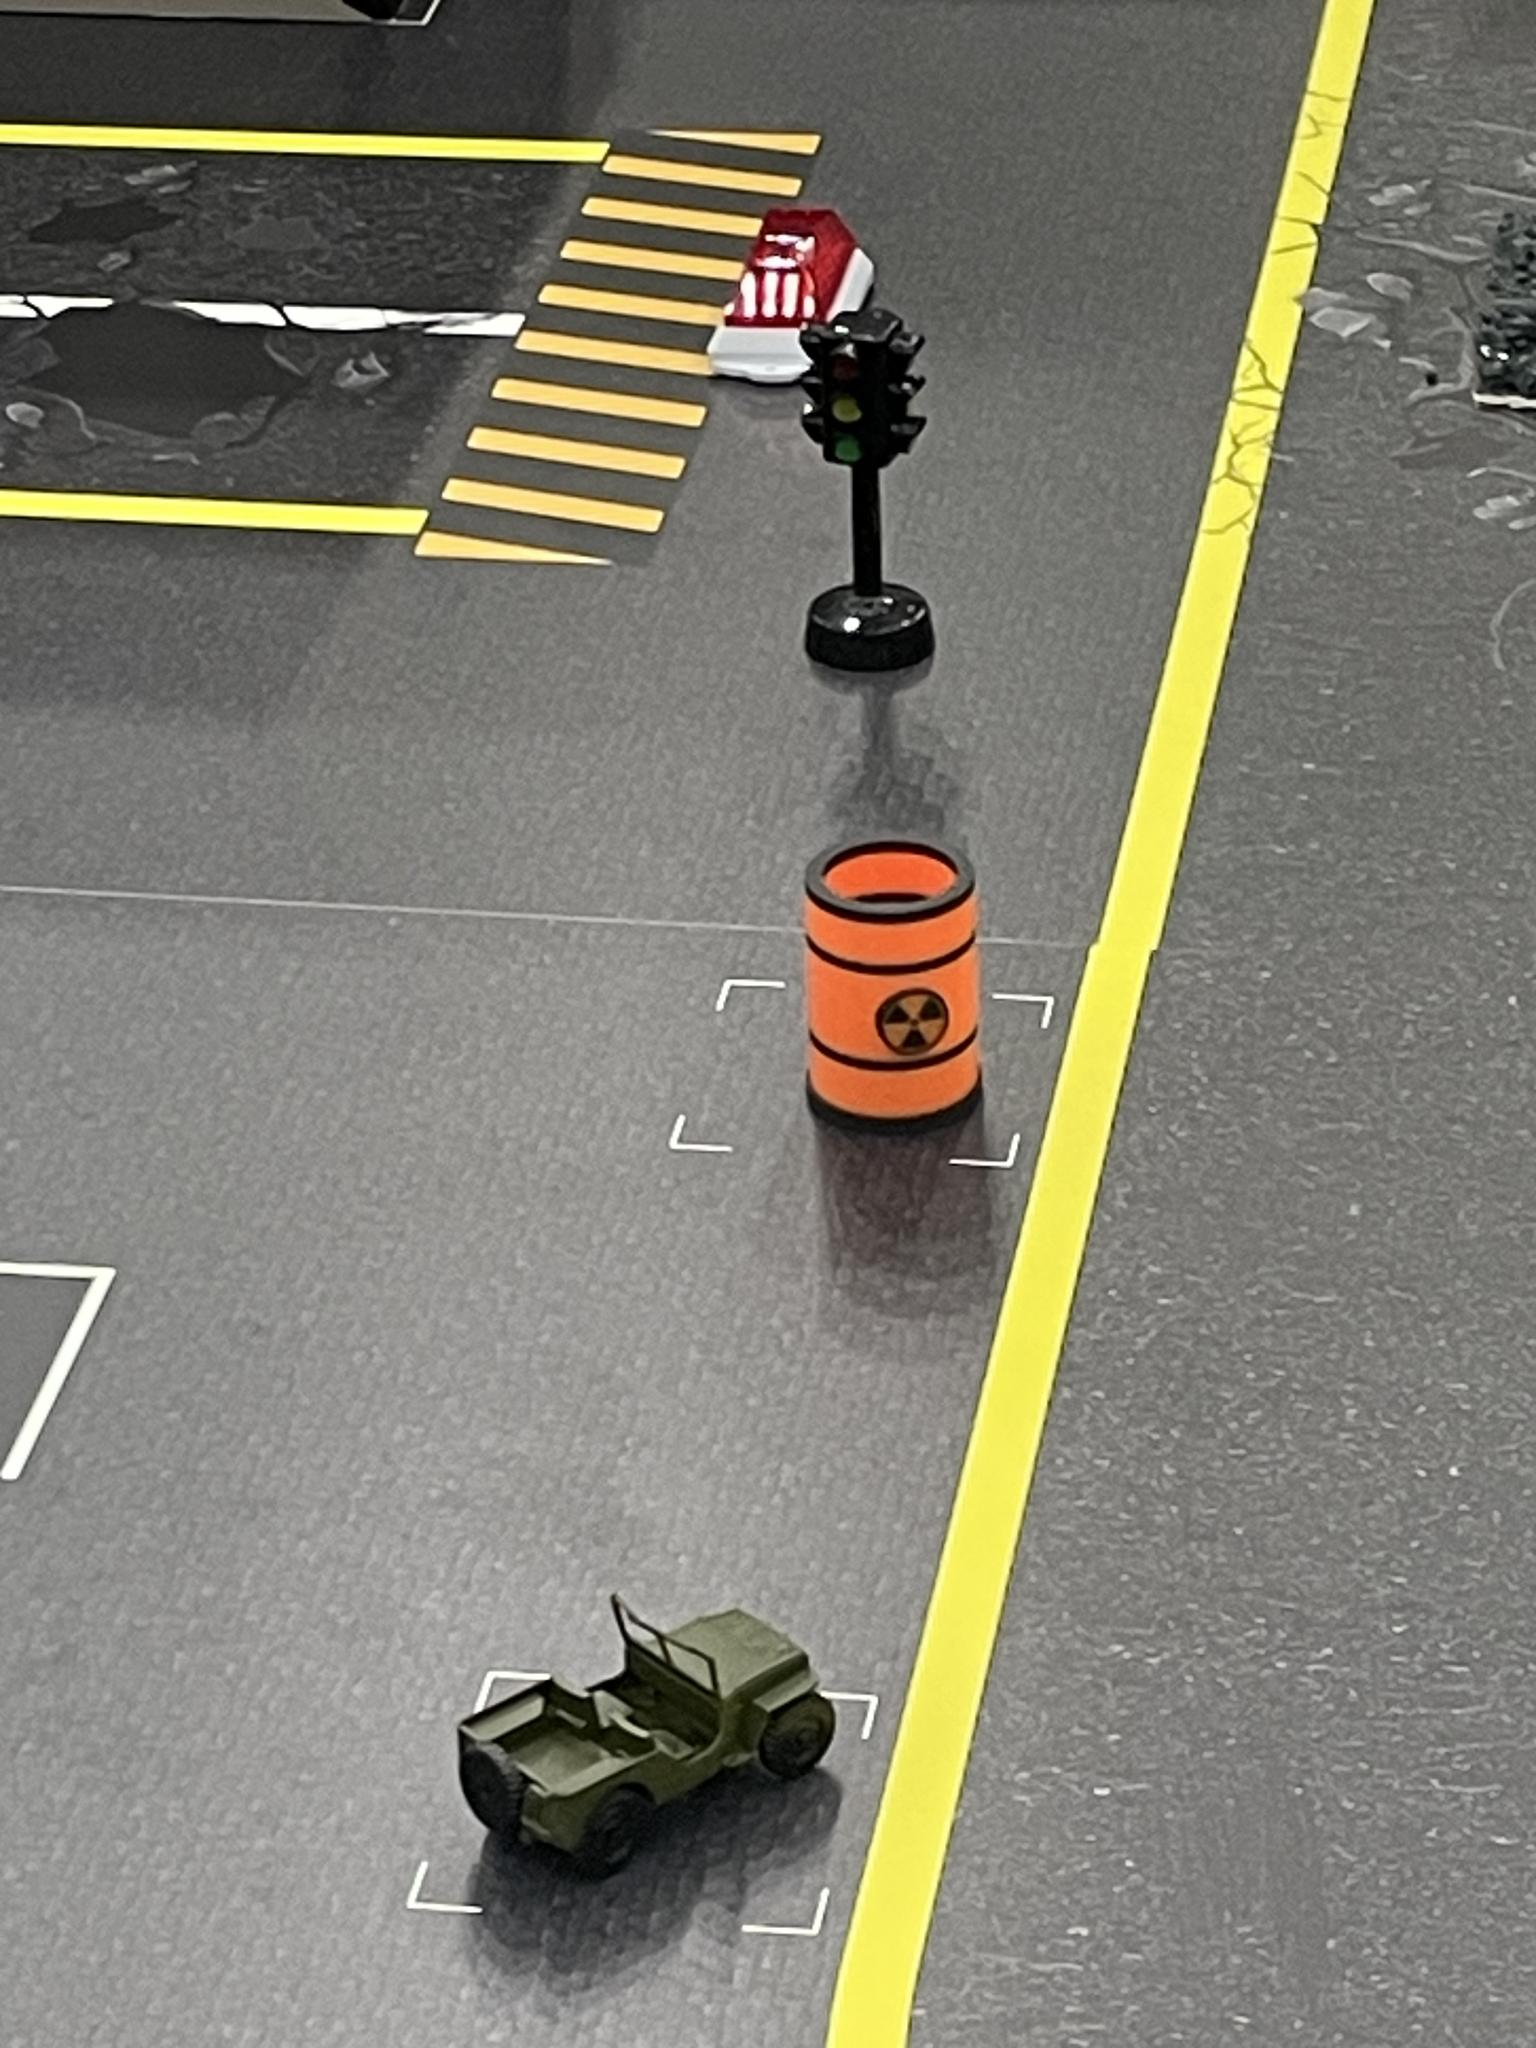Car: (450, 1587, 862, 1896)
Hazmat: (795, 827, 999, 1158)
